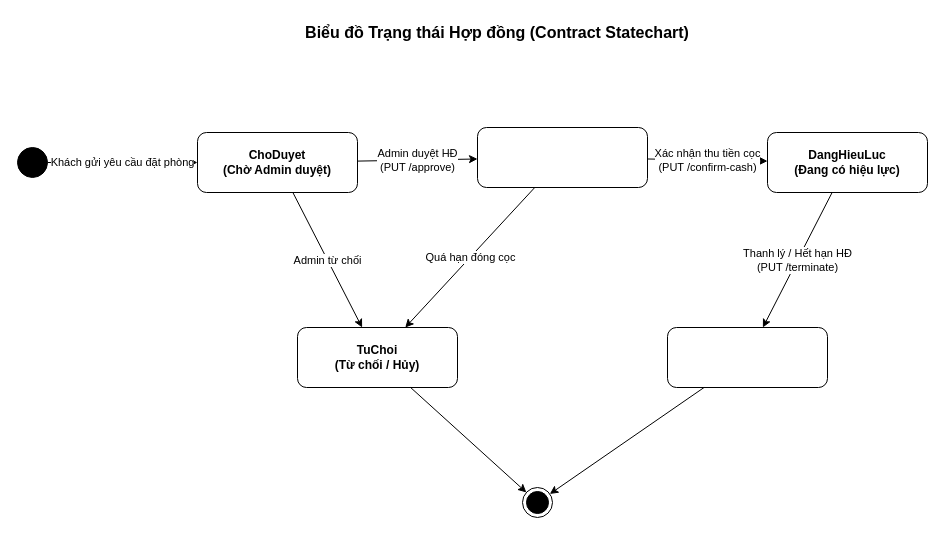
This 945x535 diagram has some shape labels left out. The shapes that lost their labels are listed below. From the top down, each one's box as (x1, y1, x2, y2) in pixels, then its label:
(476, 126, 648, 188): ChoCoc (Chờ cọc / Sinh HD cọc)
(666, 326, 828, 388): DaKetThuc (Đã kết thúc / Thanh lý)
